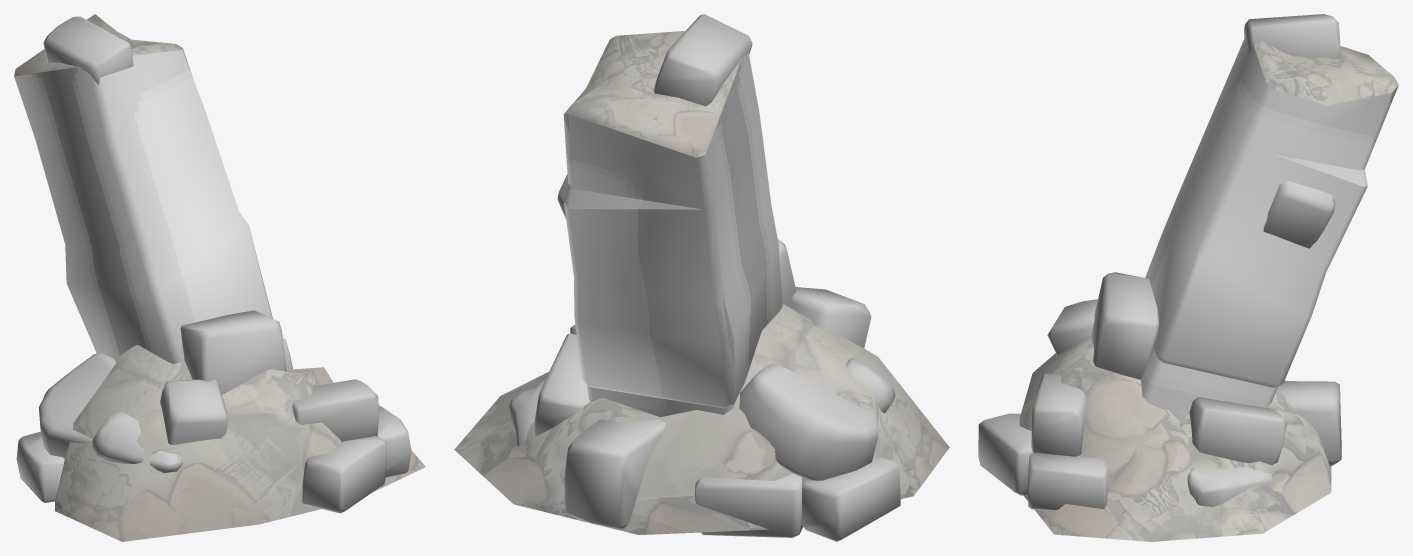
Rendered from SM_Ruins_02.fbx.
3 views of the same model, side by side, from view 1: azimuth 30°, elevation 25°; view 2: azimuth 150°, elevation 25°; view 3: azimuth 270°, elevation 25° (orthographic). The views are drawn at different scales.
Visible parts, largest first — view 1: SM_Ruins_02_LOD0; view 2: SM_Ruins_02_LOD0; view 3: SM_Ruins_02_LOD0.
Part boxes in pixels (x1,y1,x2,y2): SM_Ruins_02_LOD0: (14, 14, 425, 541); SM_Ruins_02_LOD0: (454, 14, 949, 541); SM_Ruins_02_LOD0: (978, 14, 1398, 541).
Bounding box in the file's own units: 336 × 353 × 389.
